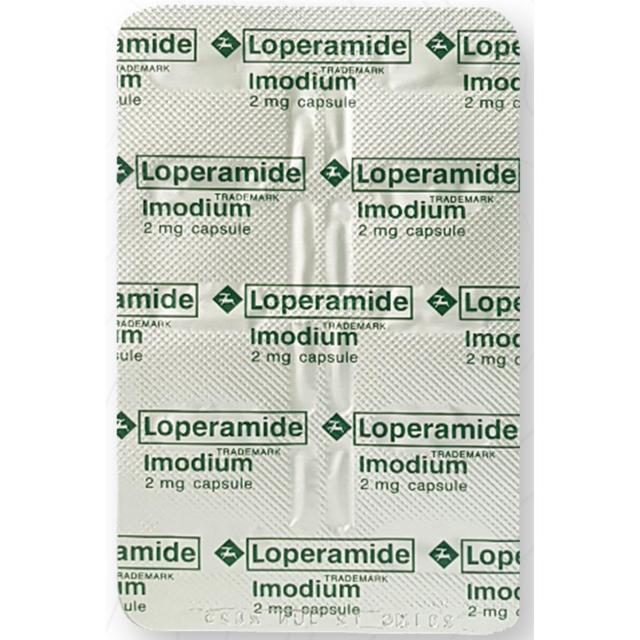blister: (115, 1, 526, 634)
